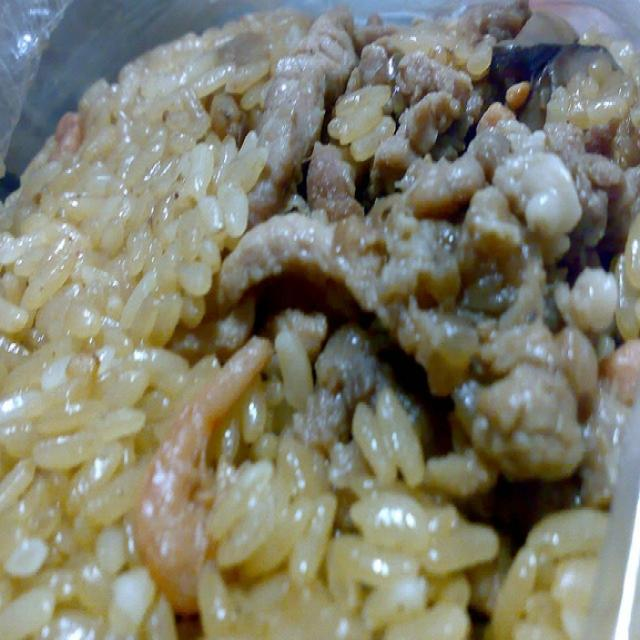米饭主食: (11, 21, 611, 625)
